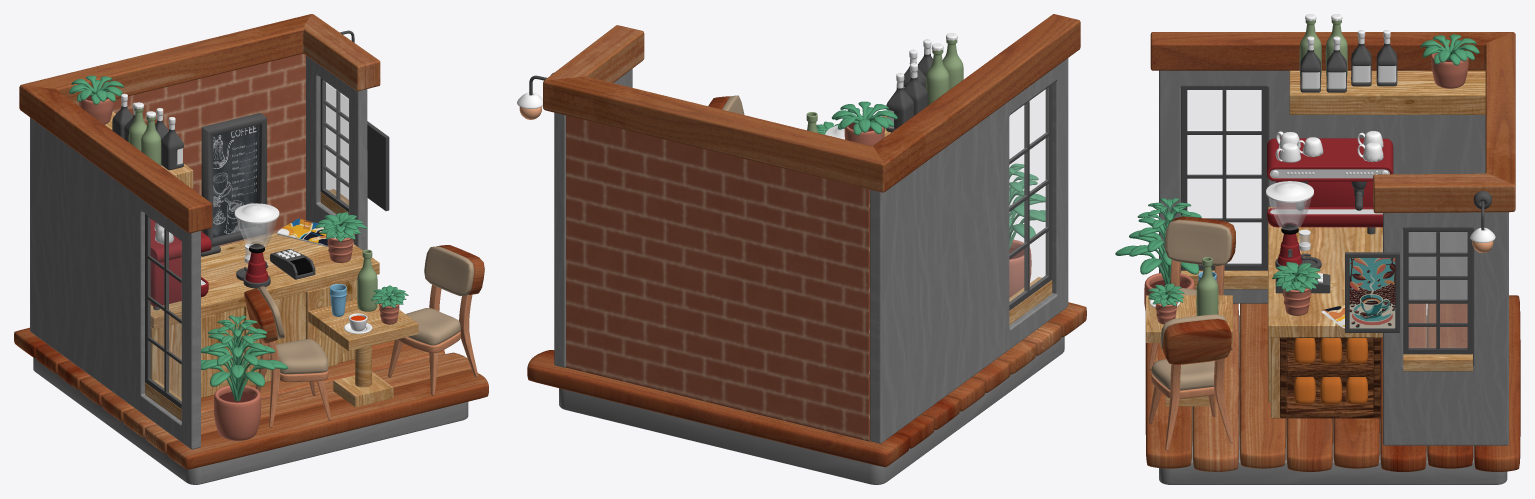
3 views of the same model, side by side, from view 1: azimuth 30°, elevation 25°; view 2: azimuth 150°, elevation 25°; view 3: azimuth 270°, elevation 25° (orthographic). The views are drawn at different scales.
Parts seen in each view (by area): view 1: Plane.004, Plane.005, Base, Plane.002, Plane.001, Plane.009, Plane.176, Plane.003, Plane.029, Plane.190, Frame_2, Plane.027 (+31 smaller); view 2: Plane.002, Plane.004, Plane.005, Base, Plane.001, Plane.029, Plane.003, Plane.008, Plane.034, Plane.188, Circle.043, Plane.028 (+4 smaller); view 3: Base, Plane.005, Plane.004, Plane.003, Plane.029, Table_Side_2, Plane.009, Plane.001, Plane.027, stand, Plane.191, Plane.037 (+39 smaller).
Part boxes in pixels (x1,y1,x2,y2): Plane.004: (30,117,200,449); Plane.005: (19,14,380,233); Base: (14,327,488,469); Plane.002: (112,54,305,246); Plane.001: (33,357,468,484); Plane.009: (150,223,379,328); Plane.176: (150,280,357,397); Plane.003: (306,55,367,250); Plane.029: (148,217,181,403); Plane.190: (213,125,257,237); Frame_2: (201,113,266,246); Plane.027: (322,80,348,208); Plane.002: (566,115,869,441); Plane.004: (870,58,1068,443); Plane.005: (543,14,1080,192); Base: (527,302,1086,467); Plane.001: (559,337,1064,484); Plane.029: (1009,87,1048,304); Plane.003: (554,69,632,367); Plane.008: (1009,84,1051,310); Plane.034: (1024,101,1029,291); Plane.188: (886,73,913,132); Circle.043: (926,49,949,105); Plane.028: (1009,277,1052,324); Base: (1145,295,1520,471); Plane.005: (1150,32,1515,213); Plane.004: (1159,70,1485,303); Plane.003: (1383,212,1508,445); Plane.029: (1187,90,1261,263); Table_Side_2: (1289,70,1485,114); Plane.009: (1268,207,1382,337); Plane.001: (1159,315,1507,484); Plane.027: (1409,232,1467,347); stand: (1280,337,1380,418); Plane.191: (1349,258,1395,328); Plane.037: (1267,138,1393,181).
Size of the model in its own units: 9.5 by 8.58 by 9.31.
Materials: 36 (11 with a texture image).
